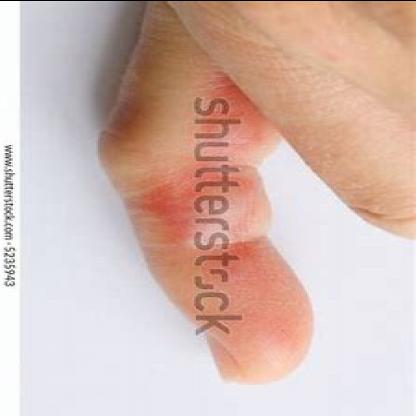Wasp: (148, 76, 268, 302)
